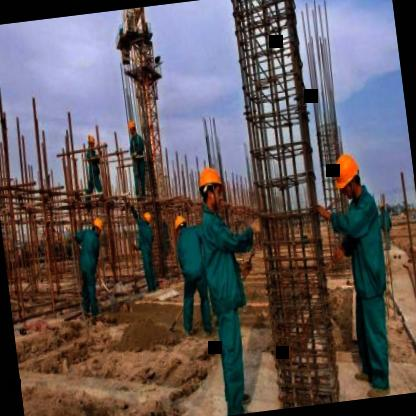helmet: (192, 160, 230, 218), (330, 148, 366, 206), (171, 210, 189, 236), (88, 216, 106, 238), (124, 116, 140, 140), (84, 128, 98, 152), (139, 209, 153, 230)
